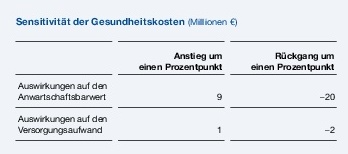table: (0, 0, 348, 154)
